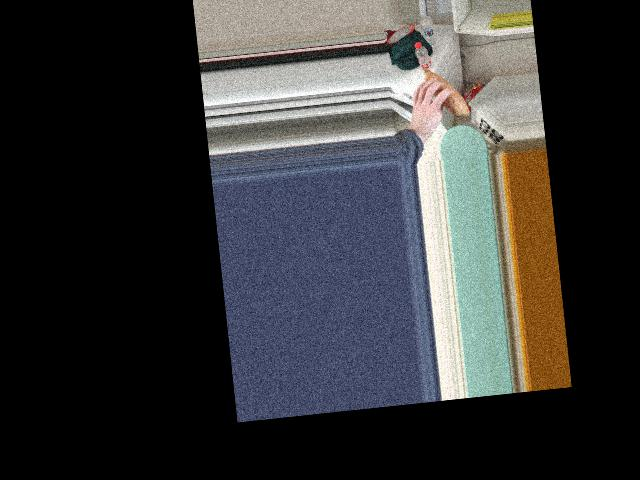sweet_potato: (412, 67, 467, 114)
